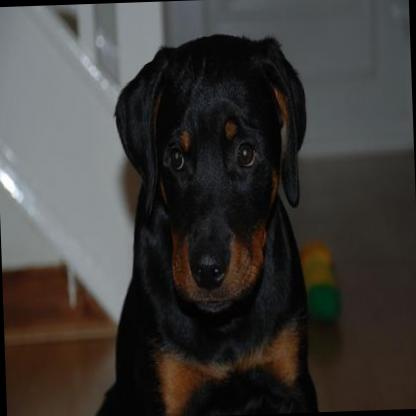Rottweiler: (79, 30, 316, 416)
